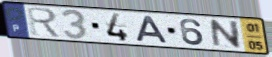3: (61, 9, 91, 41)
4: (105, 12, 130, 43)
6: (179, 18, 206, 47)
A: (135, 15, 171, 45)
N: (208, 19, 243, 50)
R: (25, 6, 64, 40)
